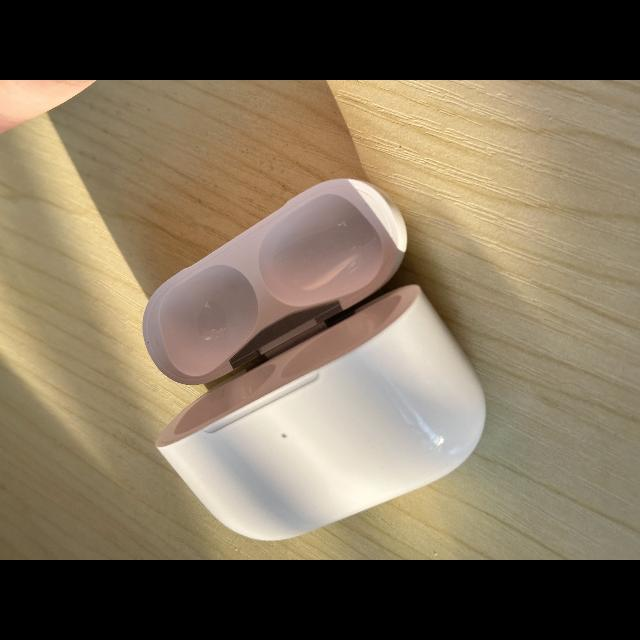AirPods Pro: (142, 178, 486, 541)
